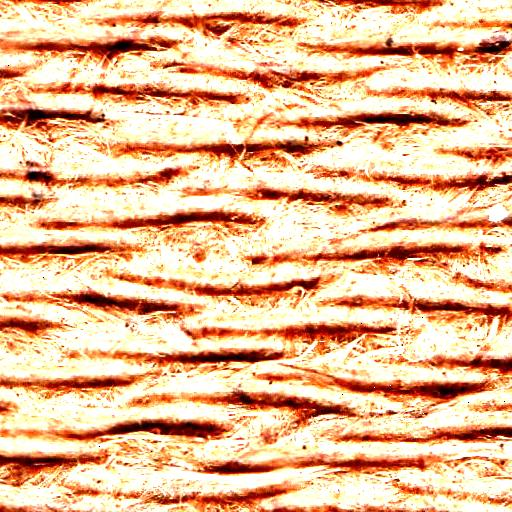egg: (473, 32, 508, 63), (104, 34, 138, 57), (483, 420, 512, 445), (28, 166, 53, 190)
